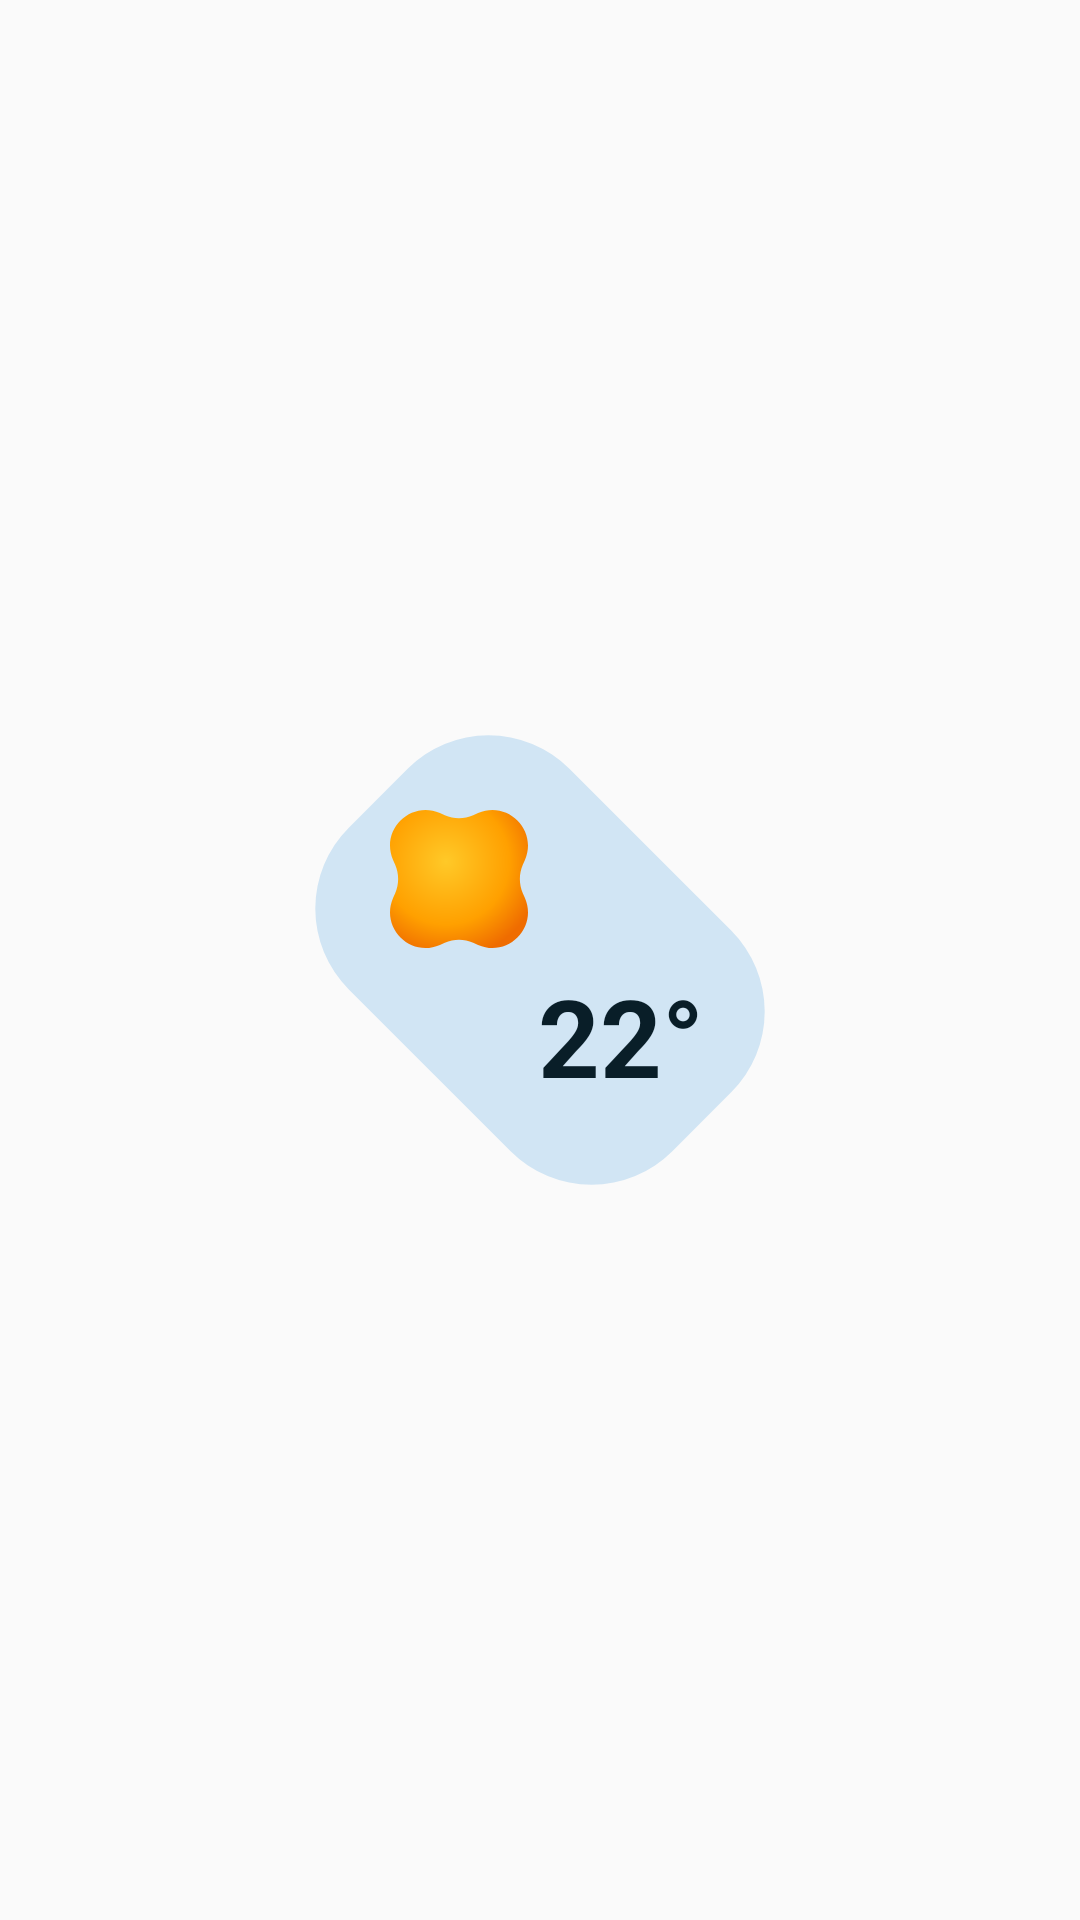

Named icons in this screenshot (1080w x 1920h) and their bounding boxes, (x1, y1, x2, y2):
weather sun scalloped: (390, 810, 528, 948)
